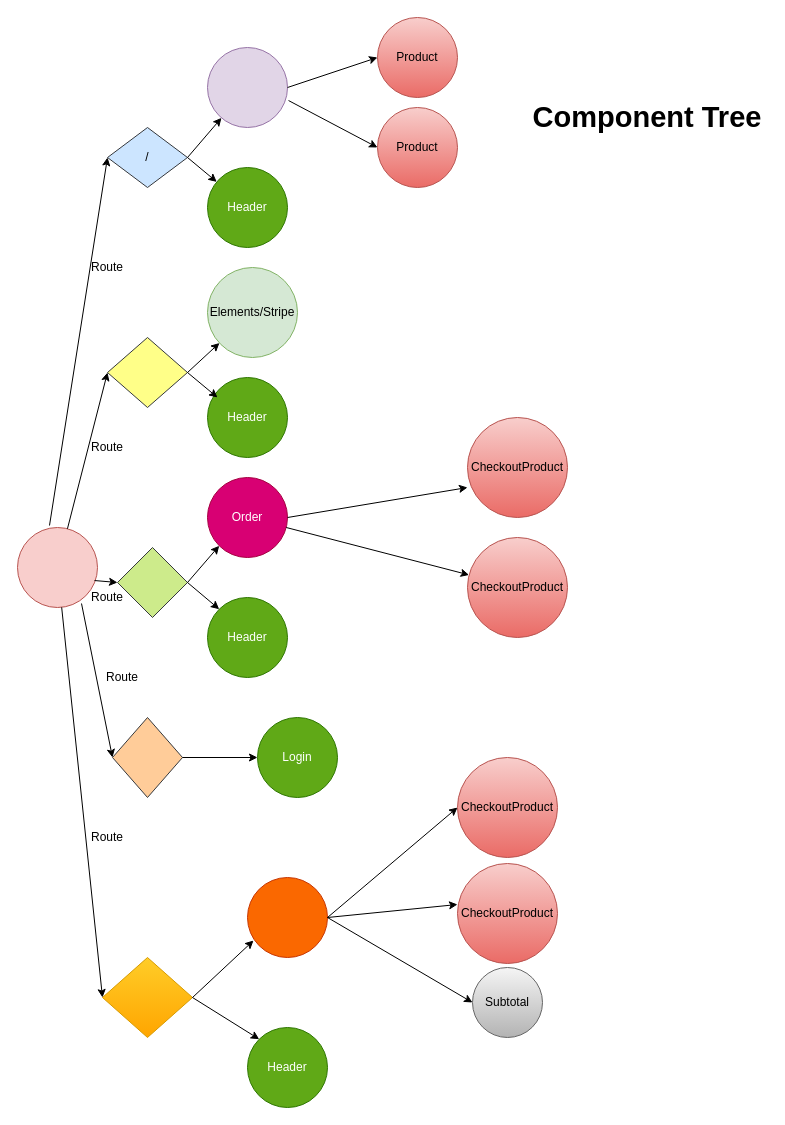
This 785x1125 diagram has some shape labels left out. The shapes that lost their labels are listed below. From the top down, each one's box as (x1, y1, x2, y2) in pixels, then its label:
(206, 46, 288, 128): Home
(106, 336, 188, 408): /Payments
(16, 526, 98, 608): App
(116, 546, 188, 618): /Orders
(112, 716, 182, 798): /Login
(246, 876, 328, 958): Checkout
(102, 956, 192, 1038): /Checkout
